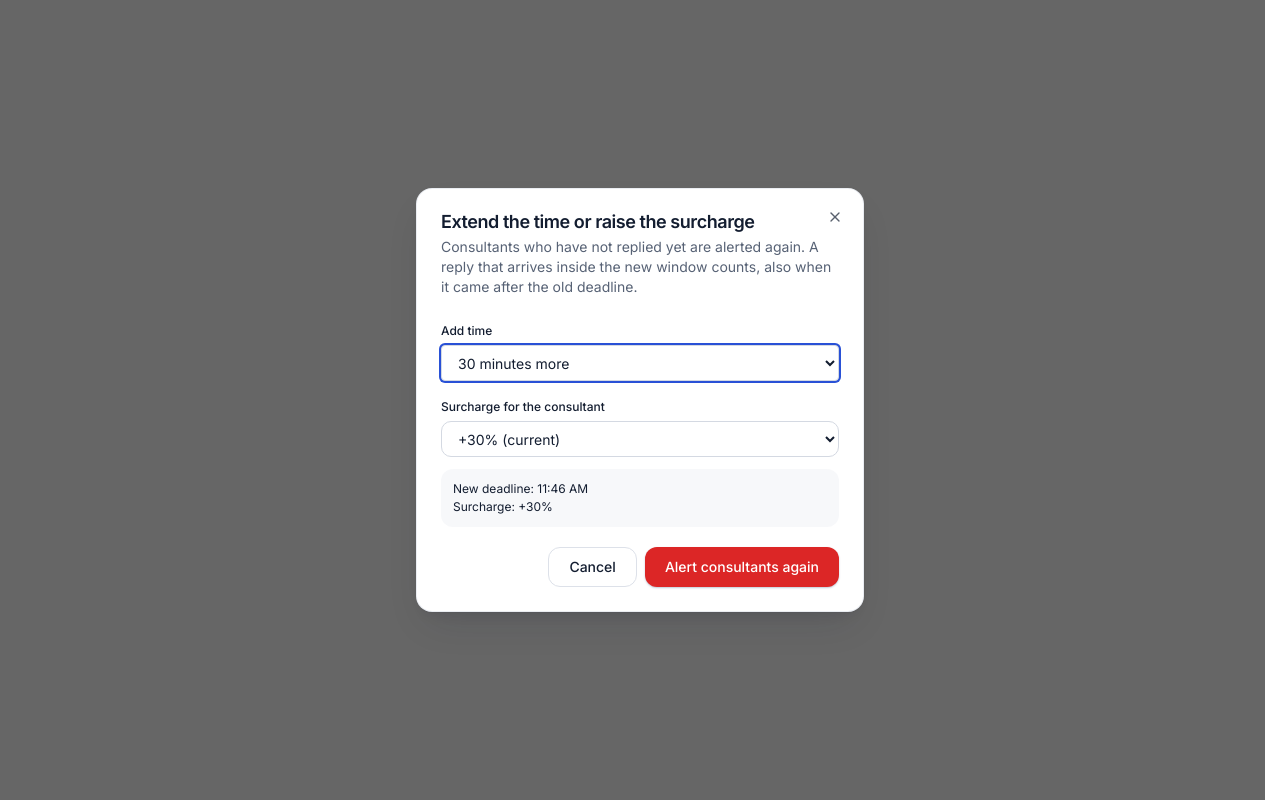
Test: CriticalExtendDialog › sends the new surcharge when it was raised
Later steps or results of the test are not shown.
Select "+50%" in the dropdown labelled "Surcharge for the consultant": (640, 439) [441,421,839,457]
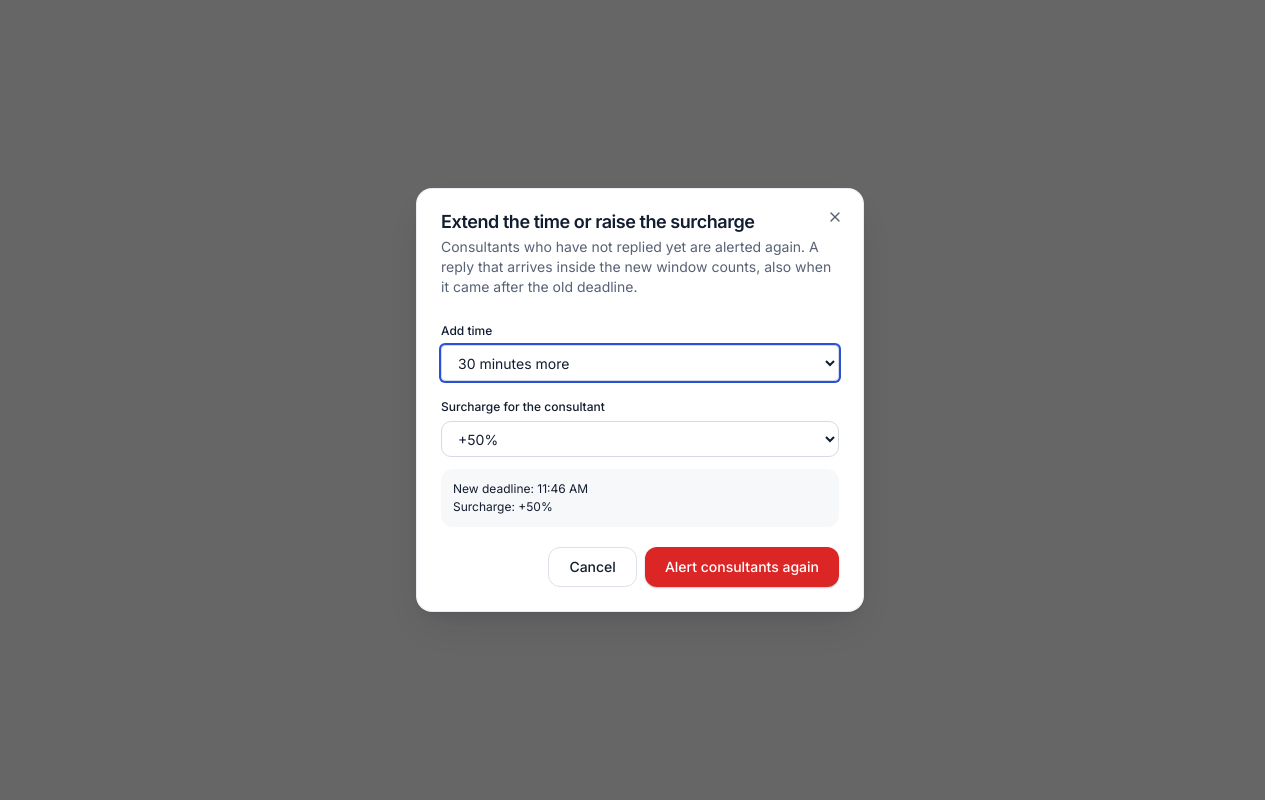
Expected: the text "Surcharge: +50%" is shown, [453,499,553,514]
